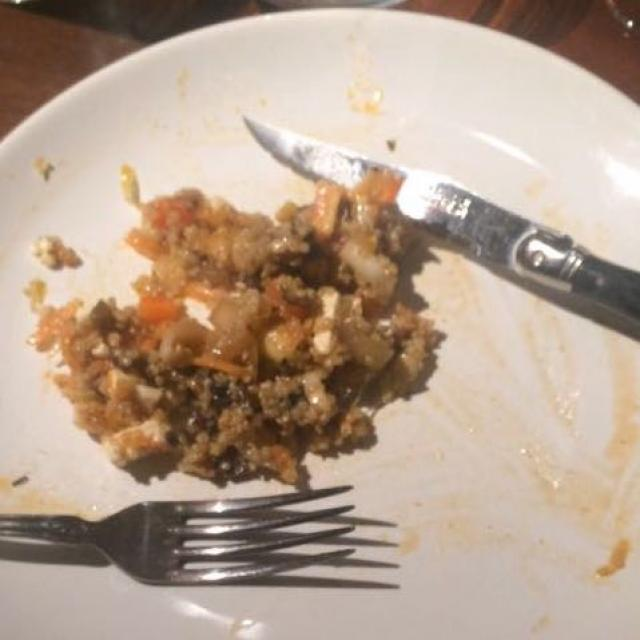mixed-vegetables: (122, 189, 365, 426)
quinoa: (38, 121, 430, 480)
